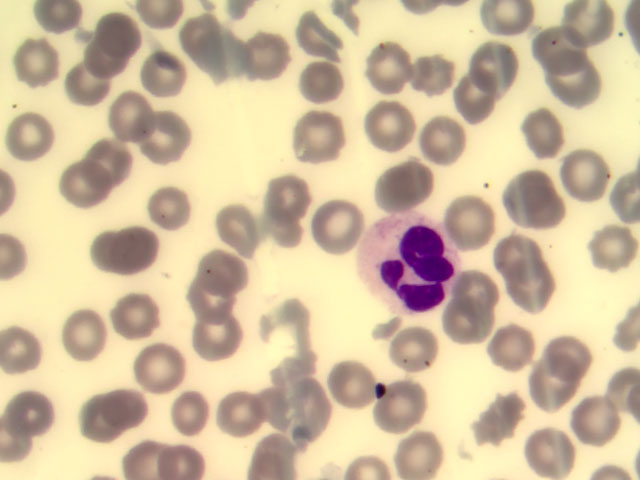RBC: (125, 434, 169, 480), (399, 434, 443, 480), (104, 15, 148, 60), (89, 35, 133, 80), (66, 64, 110, 109), (6, 40, 50, 85), (102, 90, 146, 135), (149, 118, 193, 163), (146, 59, 190, 104), (99, 135, 143, 180), (73, 158, 117, 203), (6, 112, 50, 157), (76, 229, 120, 274), (104, 223, 148, 268), (149, 178, 193, 223), (195, 247, 239, 292), (182, 269, 226, 314), (197, 312, 241, 357), (109, 292, 153, 337), (61, 312, 105, 357), (140, 347, 184, 392), (107, 381, 151, 426), (68, 397, 112, 442), (13, 386, 57, 431), (171, 382, 215, 427), (217, 391, 261, 436), (253, 386, 297, 431), (302, 382, 346, 427), (324, 365, 368, 410), (372, 384, 416, 429), (468, 405, 512, 450), (526, 375, 570, 420), (556, 337, 600, 382), (492, 329, 536, 374), (445, 307, 489, 352), (463, 267, 507, 312), (513, 264, 557, 309), (507, 233, 551, 278), (448, 198, 492, 243), (383, 166, 427, 211), (309, 199, 353, 244), (264, 167, 308, 212), (262, 207, 306, 252), (221, 208, 265, 253), (297, 113, 341, 158), (299, 56, 343, 101), (292, 14, 336, 59), (254, 30, 298, 75), (206, 31, 250, 76), (186, 15, 230, 60), (358, 45, 402, 90), (409, 50, 453, 95), (450, 75, 494, 120), (477, 45, 521, 90), (538, 27, 582, 72), (553, 53, 597, 98), (423, 115, 467, 160), (367, 99, 411, 144), (528, 112, 572, 157), (560, 146, 604, 191), (509, 177, 553, 222), (592, 224, 636, 269), (576, 396, 620, 441), (533, 430, 577, 475), (36, 1, 80, 45), (568, 1, 612, 45), (1, 330, 43, 375)
WBC: (359, 208, 458, 314)
